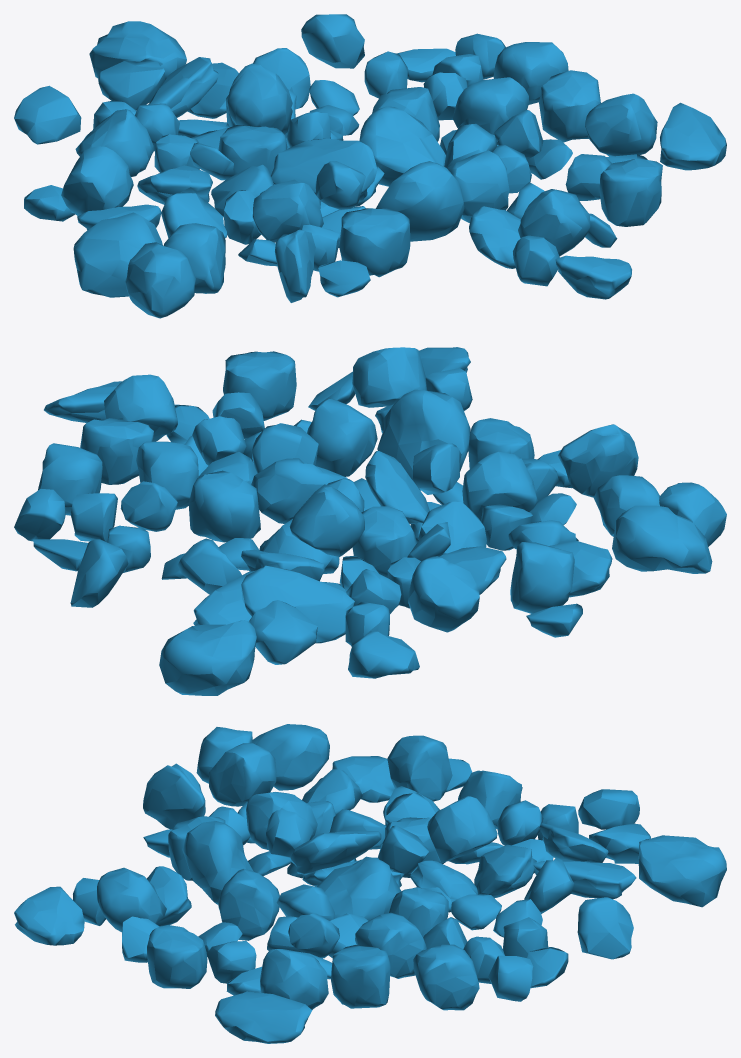
The model's file is Scree_04_Lod1.fbx.
The picture shows the model from 3 angles, top to bottom: view 1: azimuth 30°, elevation 25°; view 2: azimuth 150°, elevation 25°; view 3: azimuth 270°, elevation 25°; orthographic projection. The views are drawn at different scales.
Parts seen in each view (by area): view 1: Scree_04_Lod1; view 2: Scree_04_Lod1; view 3: Scree_04_Lod1.
Part boxes in pixels (left/top/right/bottom): Scree_04_Lod1: left=14, top=14, right=726, bottom=318; Scree_04_Lod1: left=14, top=347, right=726, bottom=695; Scree_04_Lod1: left=14, top=724, right=726, bottom=1043.
Bounding box in the file's own units: 2172 × 360 × 2246.
